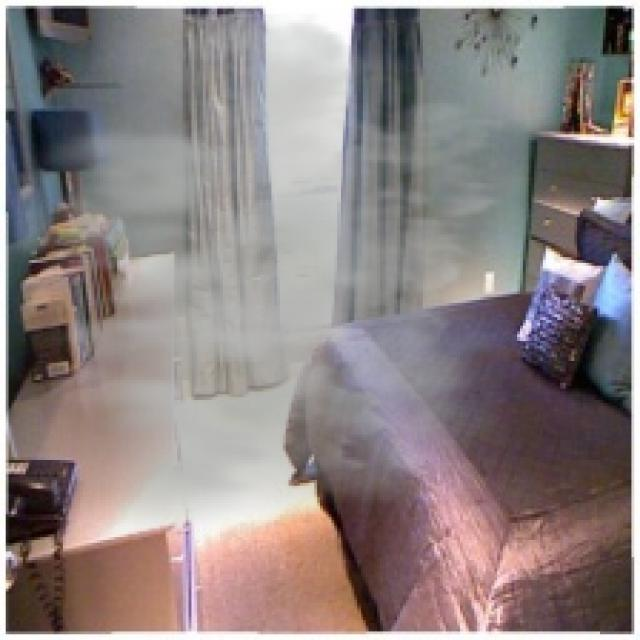smoke: (14, 14, 560, 549)
